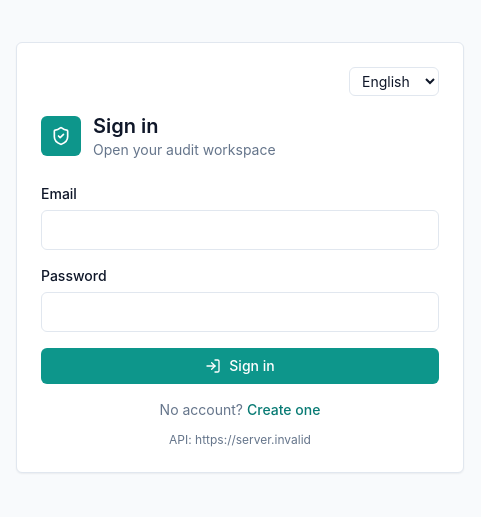
Test: login page › renders login labels and validation in Russian
Select "Russian" in the dropdown named "Interface language" at (394,81), box left=349, top=66, right=439, bottom=96
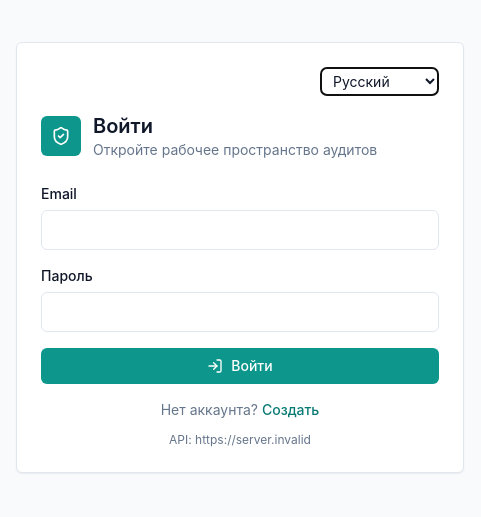
Check: the password field labelled "Пароль" is shown, box left=41, top=292, right=439, bottom=332
Check: the heading "Войти" is shown, box left=93, top=114, right=153, bottom=138
Type "bad-email" into the field labelled "Email" at (240,230), box left=41, top=210, right=439, bottom=250
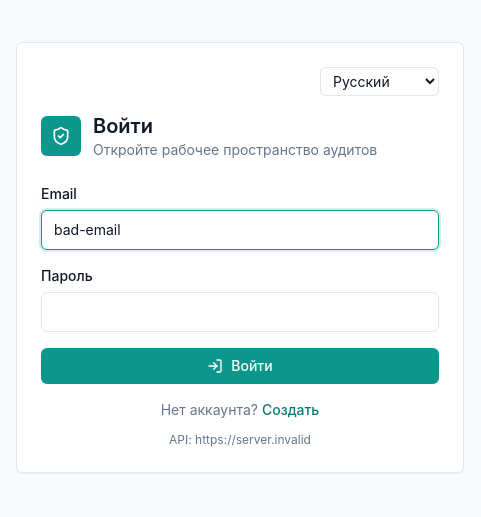
Click the button "Войти" at (240,366), box left=41, top=348, right=439, bottom=384
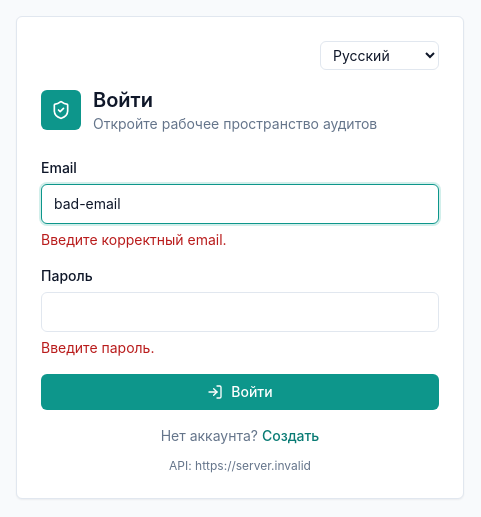
Check: the text "Введите корректный email." is shown, box left=41, top=230, right=227, bottom=248
